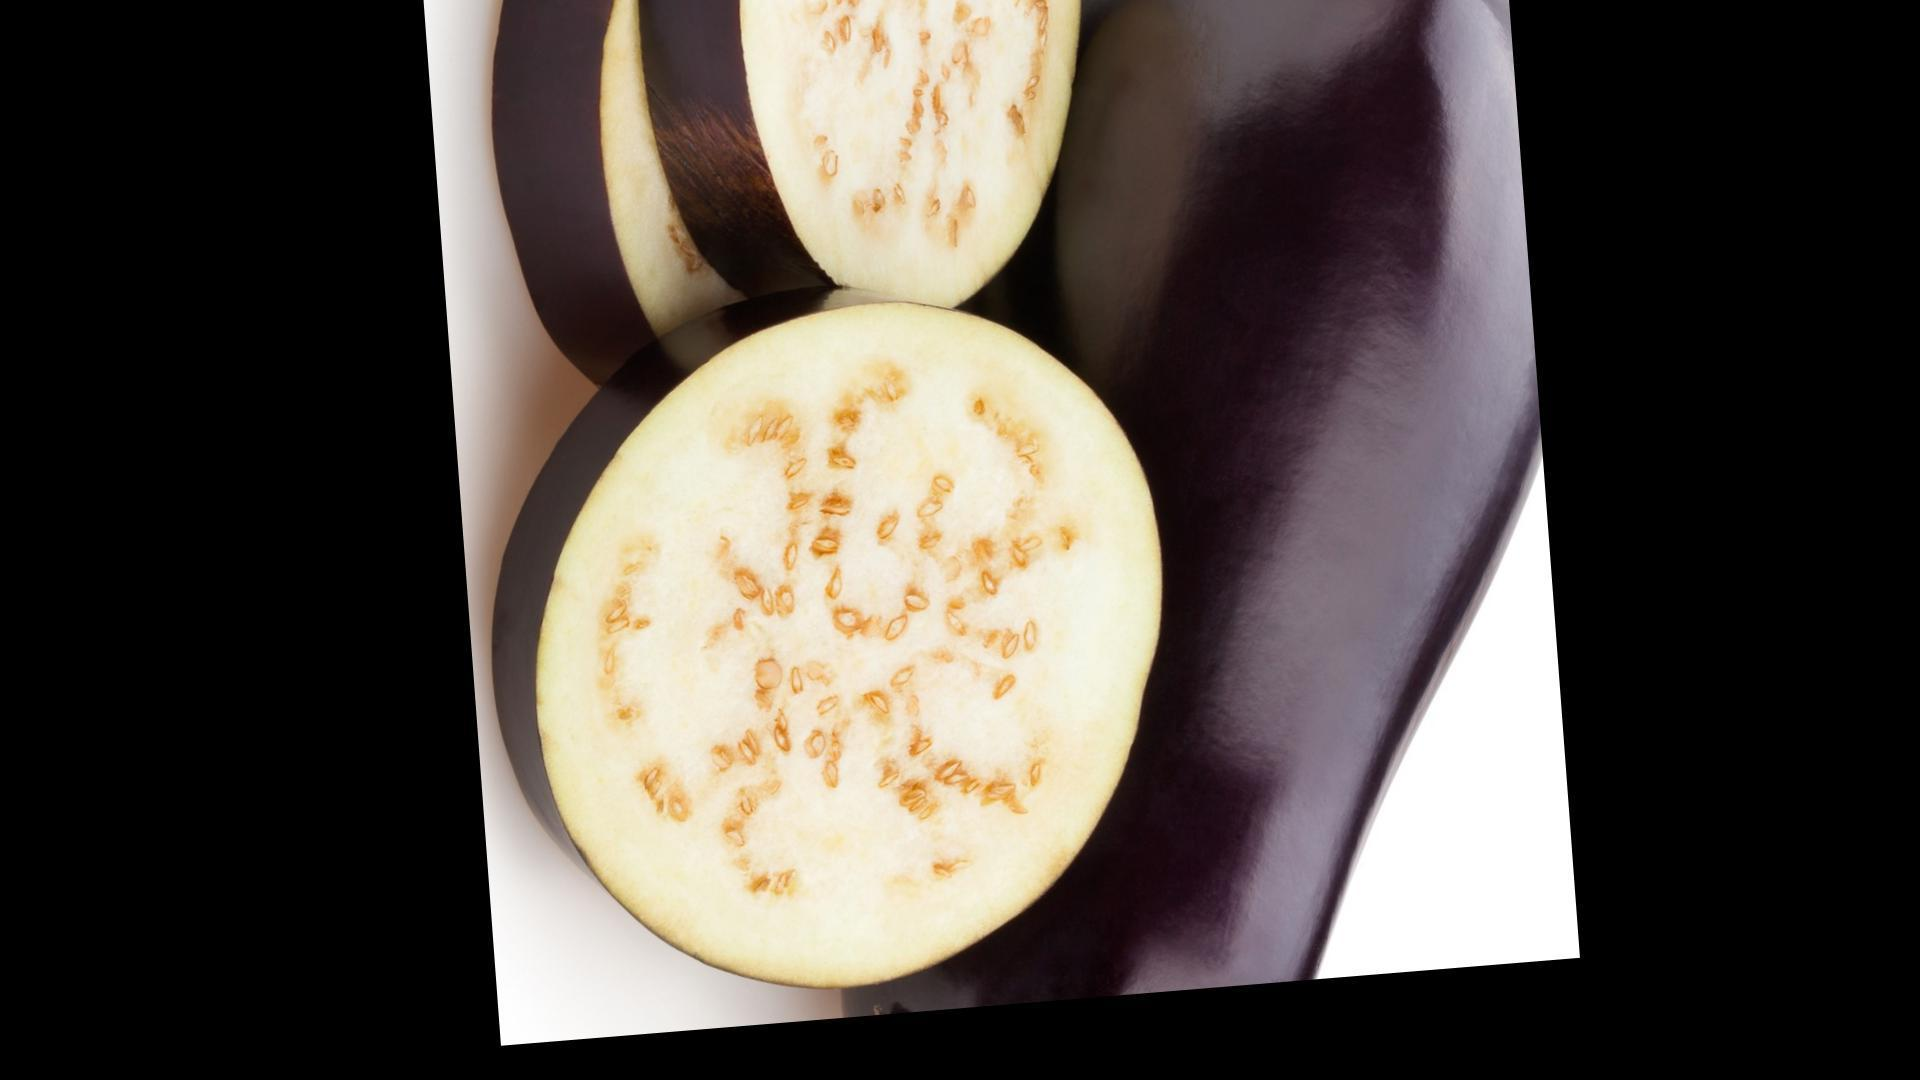eggplant: (477, 0, 1448, 1048)
